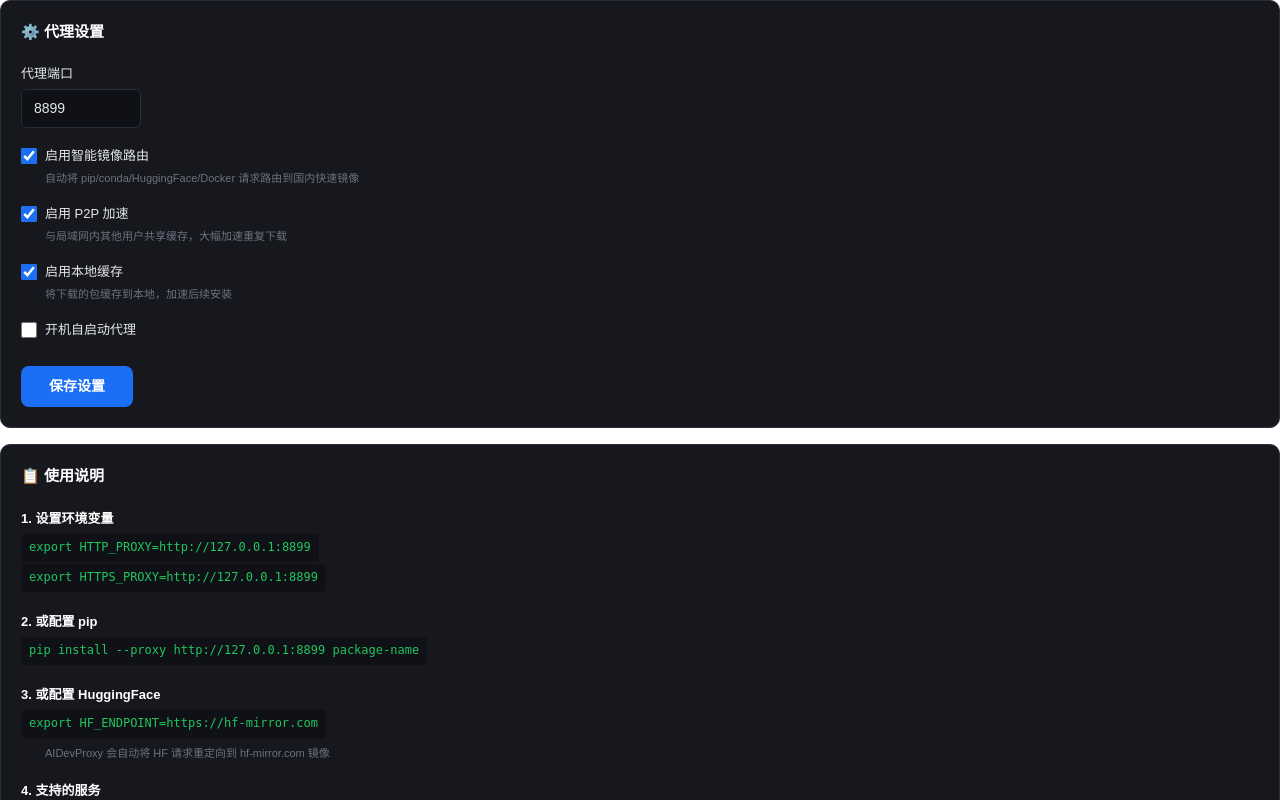
Scenario: Settings › allows changing port value
Expected: the text "代理端口" is shown, x1=21 y1=66 x2=73 y2=80
Click the number field: (81, 108) x1=21 y1=89 x2=141 y2=128
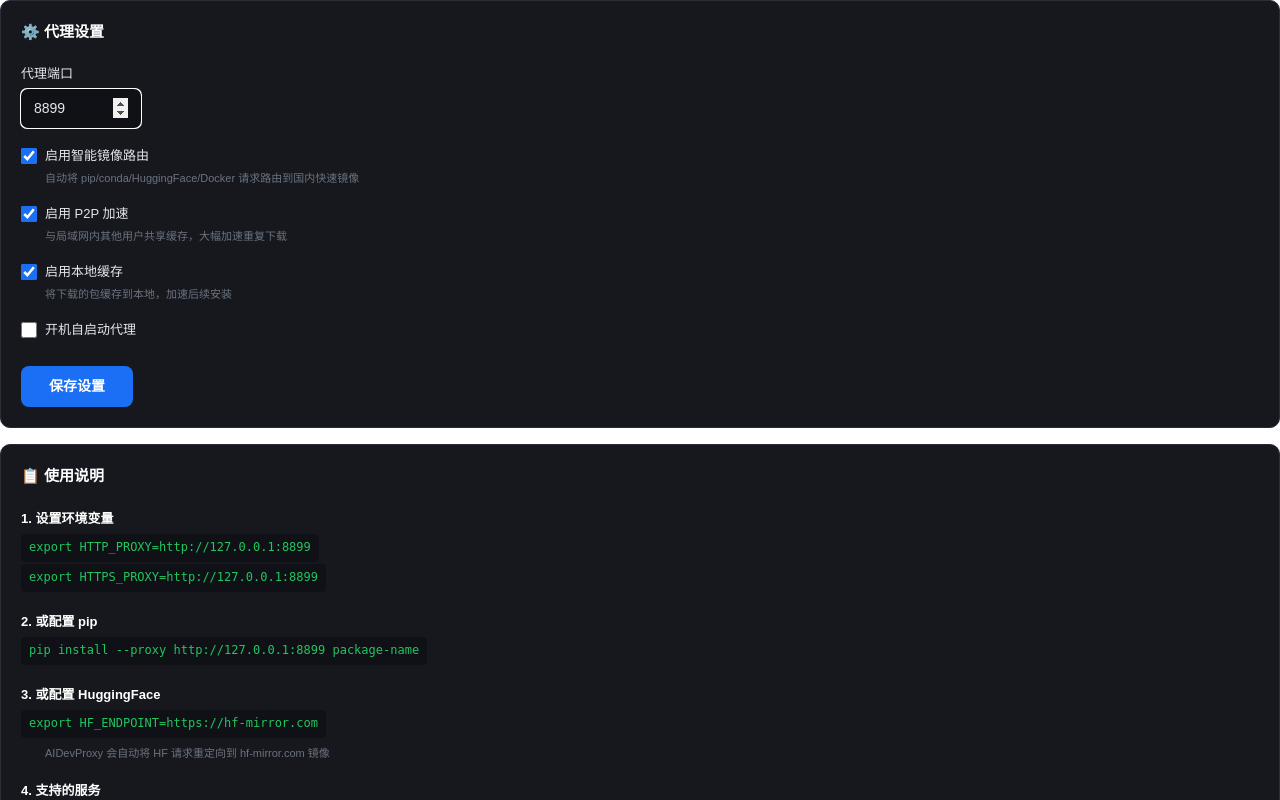
Type keys "9999"
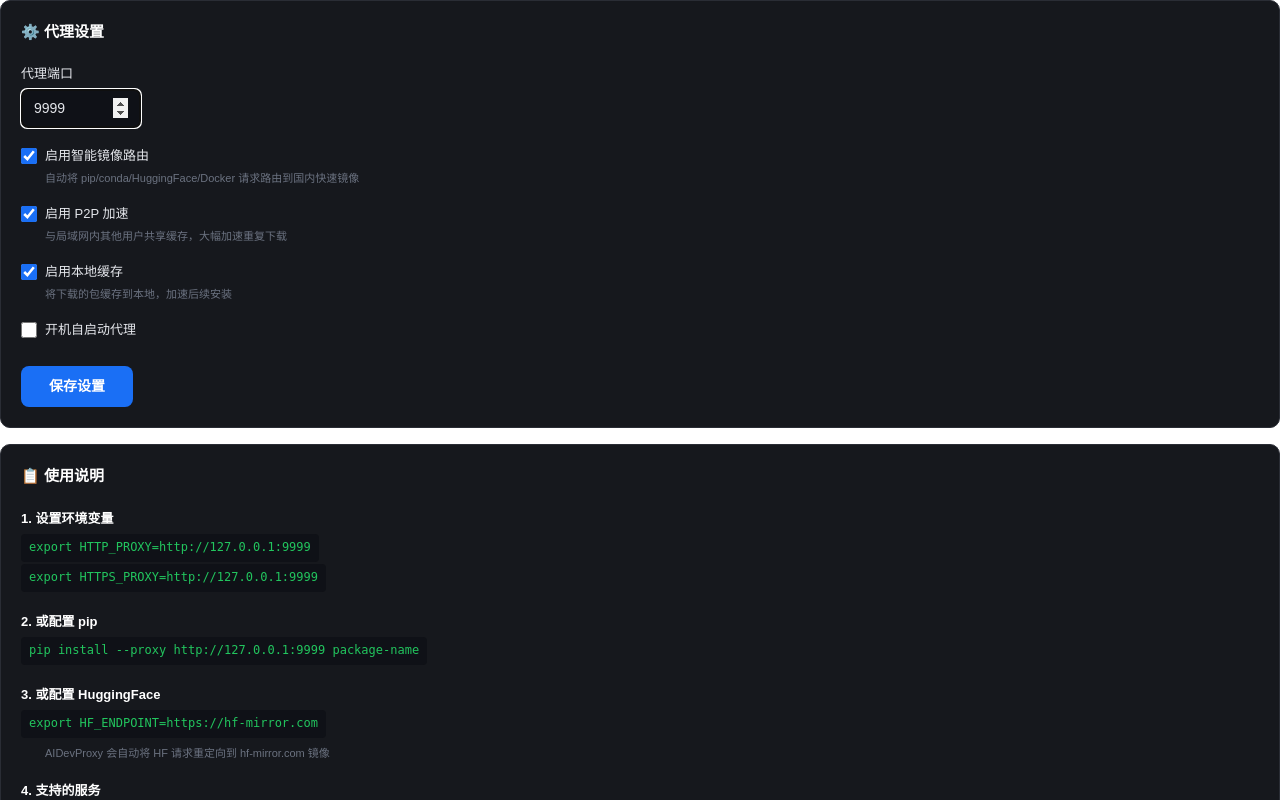
Now the number field holds "9999", box x1=21 y1=89 x2=141 y2=128
